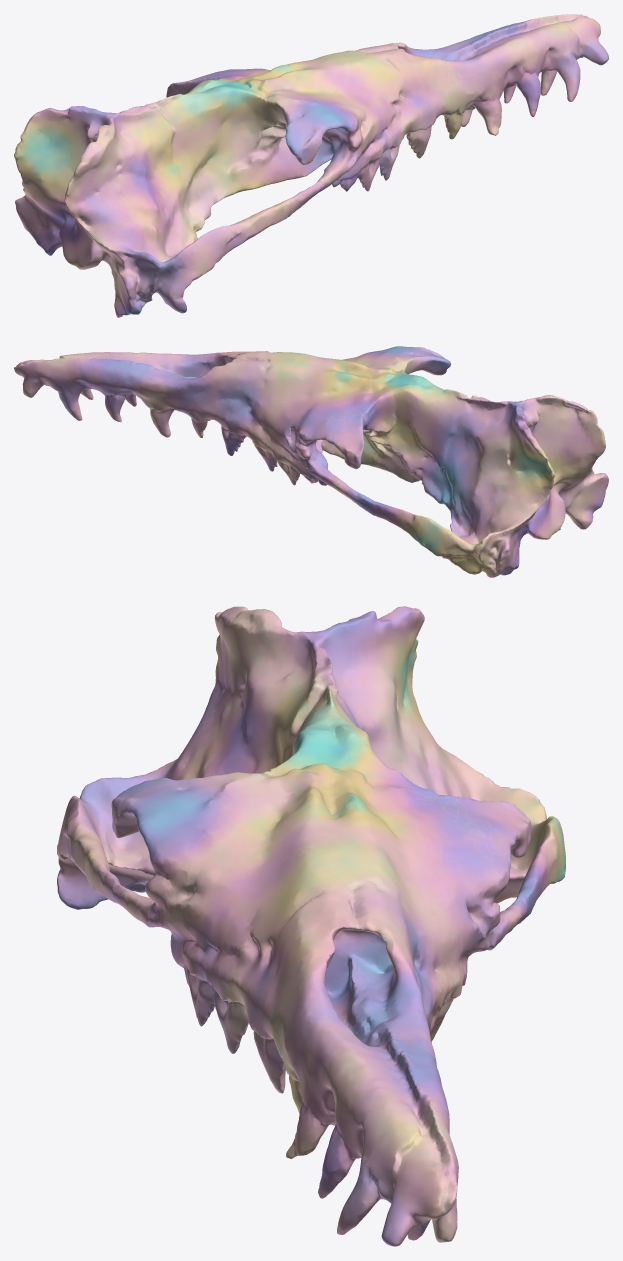
File: skull.glb
The picture shows the model from 3 angles, top to bottom: view 1: azimuth 30°, elevation 25°; view 2: azimuth 150°, elevation 25°; view 3: azimuth 270°, elevation 25°; orthographic projection. The views are drawn at different scales.
Bounding box in the file's own units: 0.1162 × 0.031 × 0.0479.
1 material, 1 textured.
